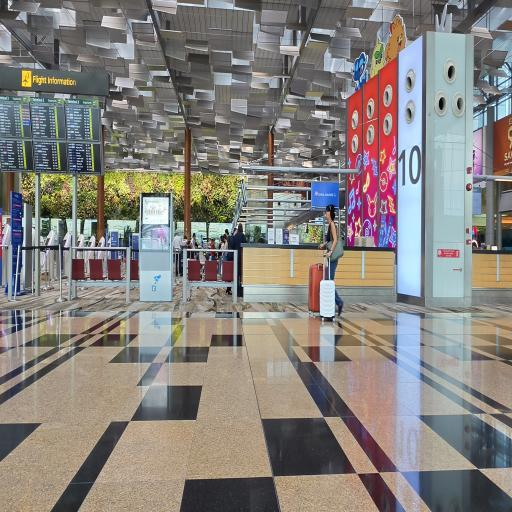person_with_luggage_left: (304, 203, 345, 323)
